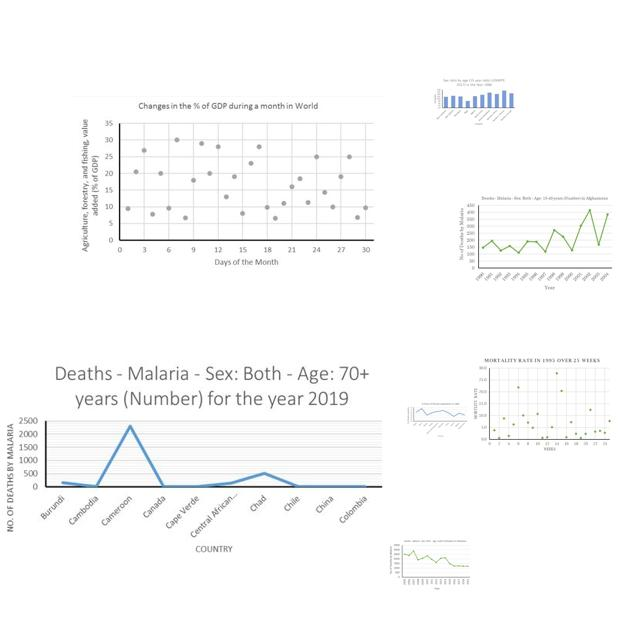Graph: (1, 356, 386, 557), (74, 96, 383, 273), (458, 194, 615, 292), (472, 356, 614, 453), (388, 538, 471, 591), (432, 77, 516, 127), (406, 401, 469, 439)
